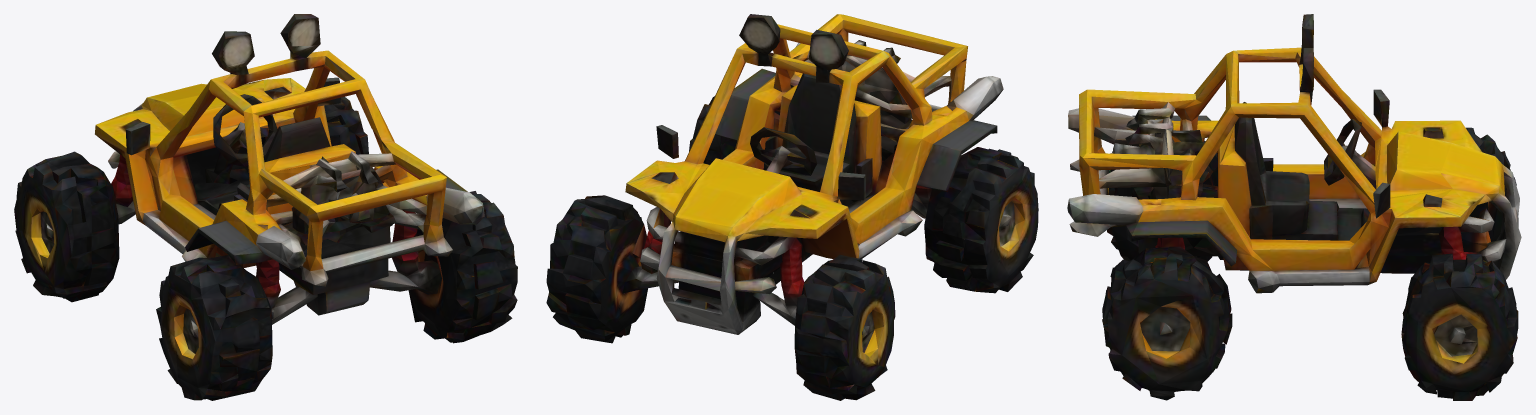
Rendered from cs_v_fuoristrada.glb.
The picture shows the model from 3 angles, left to right: view 1: azimuth 30°, elevation 25°; view 2: azimuth 150°, elevation 25°; view 3: azimuth 270°, elevation 25°; orthographic projection. The views are drawn at different scales.
Parts seen in each view (by area): view 1: v_fuoristrada; view 2: v_fuoristrada; view 3: v_fuoristrada.
Part boxes in pixels (bbox=[...]): v_fuoristrada: bbox=[14, 14, 517, 400]; v_fuoristrada: bbox=[546, 14, 1038, 400]; v_fuoristrada: bbox=[1067, 14, 1521, 400].
Size of the model in its own units: 2.64 by 2.41 by 3.3.
1 material, 1 textured.
